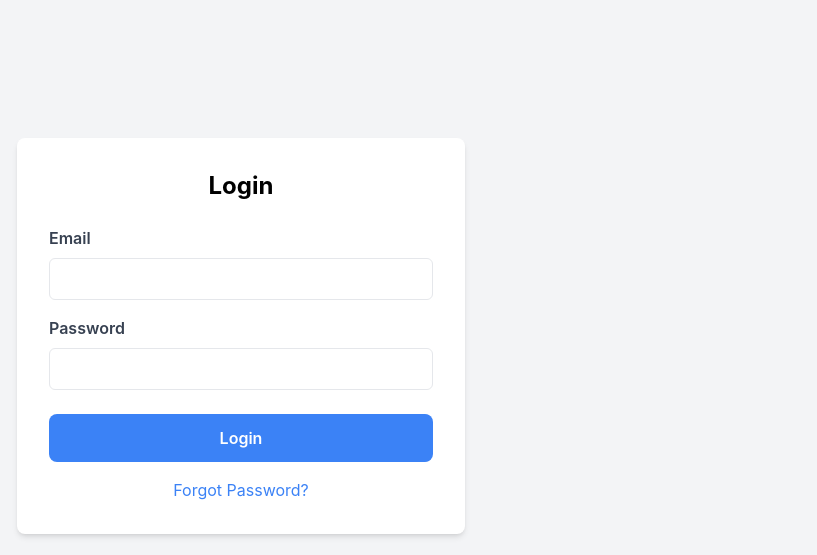
Test case: Login (integration) › shows backend error message on login failure
Type "bad@example.com" into the field labelled "Email".
click(241, 279); type("bad@example.com")  # box [49,258,433,300]
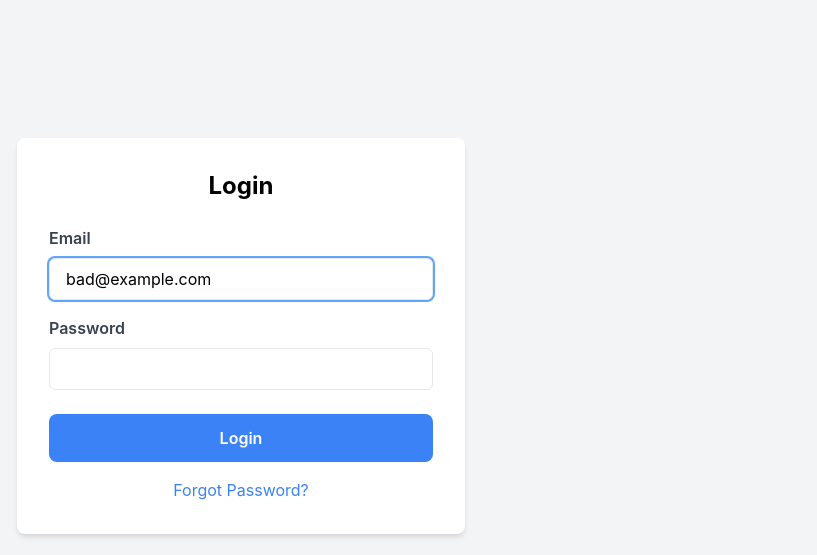
Type "wrong" into the password field labelled "Password".
click(241, 369); type("wrong")  # box [49,348,433,390]
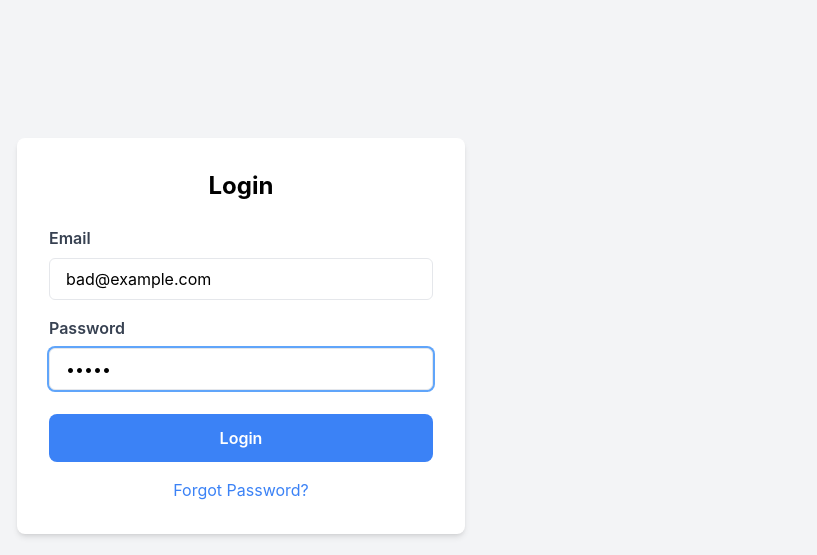
Click the button "Login".
click(241, 438)  # box [49,414,433,462]
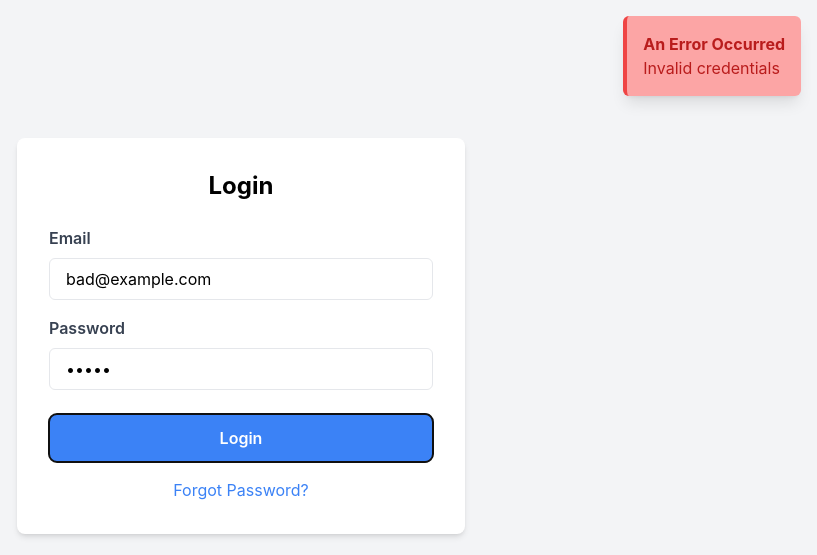
Expected: the text "Invalid credentials" is shown, [643,56,785,80]
